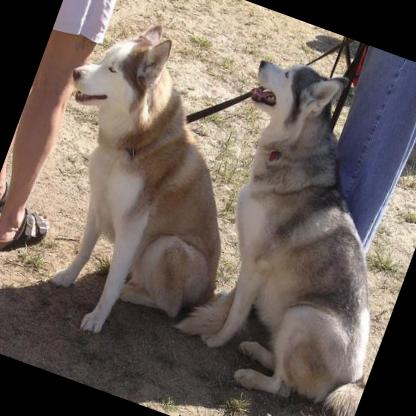Eskimo_dog: (0, 0, 295, 371), (151, 46, 416, 416)
